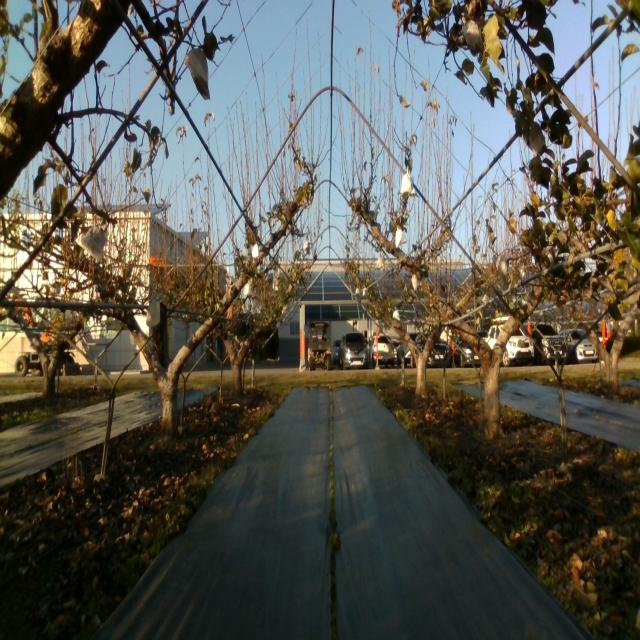pearbags: (185, 45, 210, 105), (75, 224, 107, 264), (527, 117, 547, 153), (462, 19, 480, 47), (496, 254, 509, 282), (400, 169, 413, 193)
